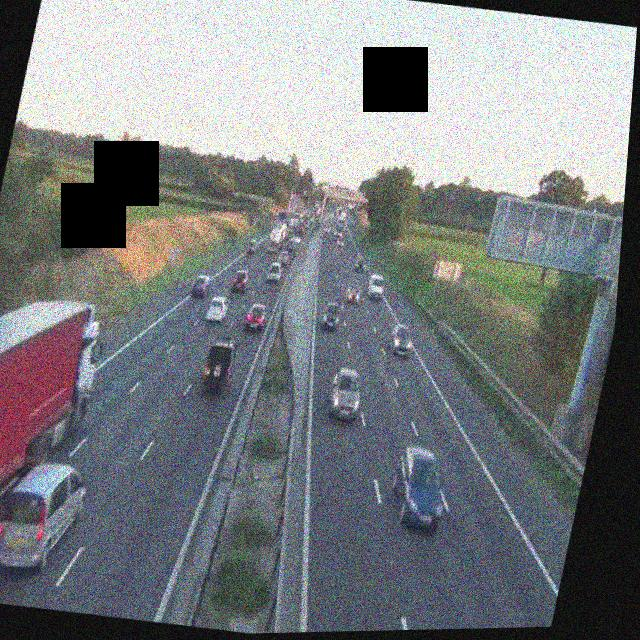car: (0, 455, 91, 576), (384, 444, 456, 534), (199, 334, 241, 397), (323, 366, 366, 422), (386, 321, 415, 356), (242, 302, 269, 334), (320, 300, 344, 332), (205, 296, 229, 324), (365, 275, 385, 301), (190, 274, 211, 298), (231, 269, 252, 293), (344, 281, 363, 305), (265, 262, 283, 285), (278, 250, 292, 267), (246, 239, 259, 255), (354, 254, 367, 270), (287, 237, 300, 250), (335, 234, 346, 248), (324, 225, 332, 236)
truck: (0, 286, 114, 606), (267, 217, 289, 253), (334, 210, 348, 233)
